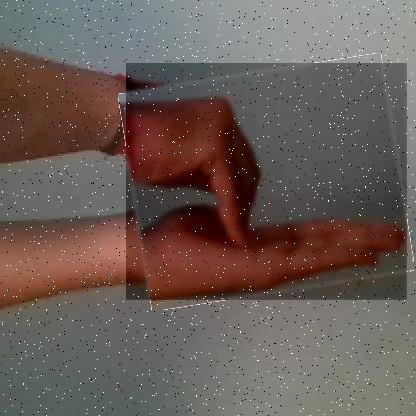Z: (126, 63, 408, 301)
